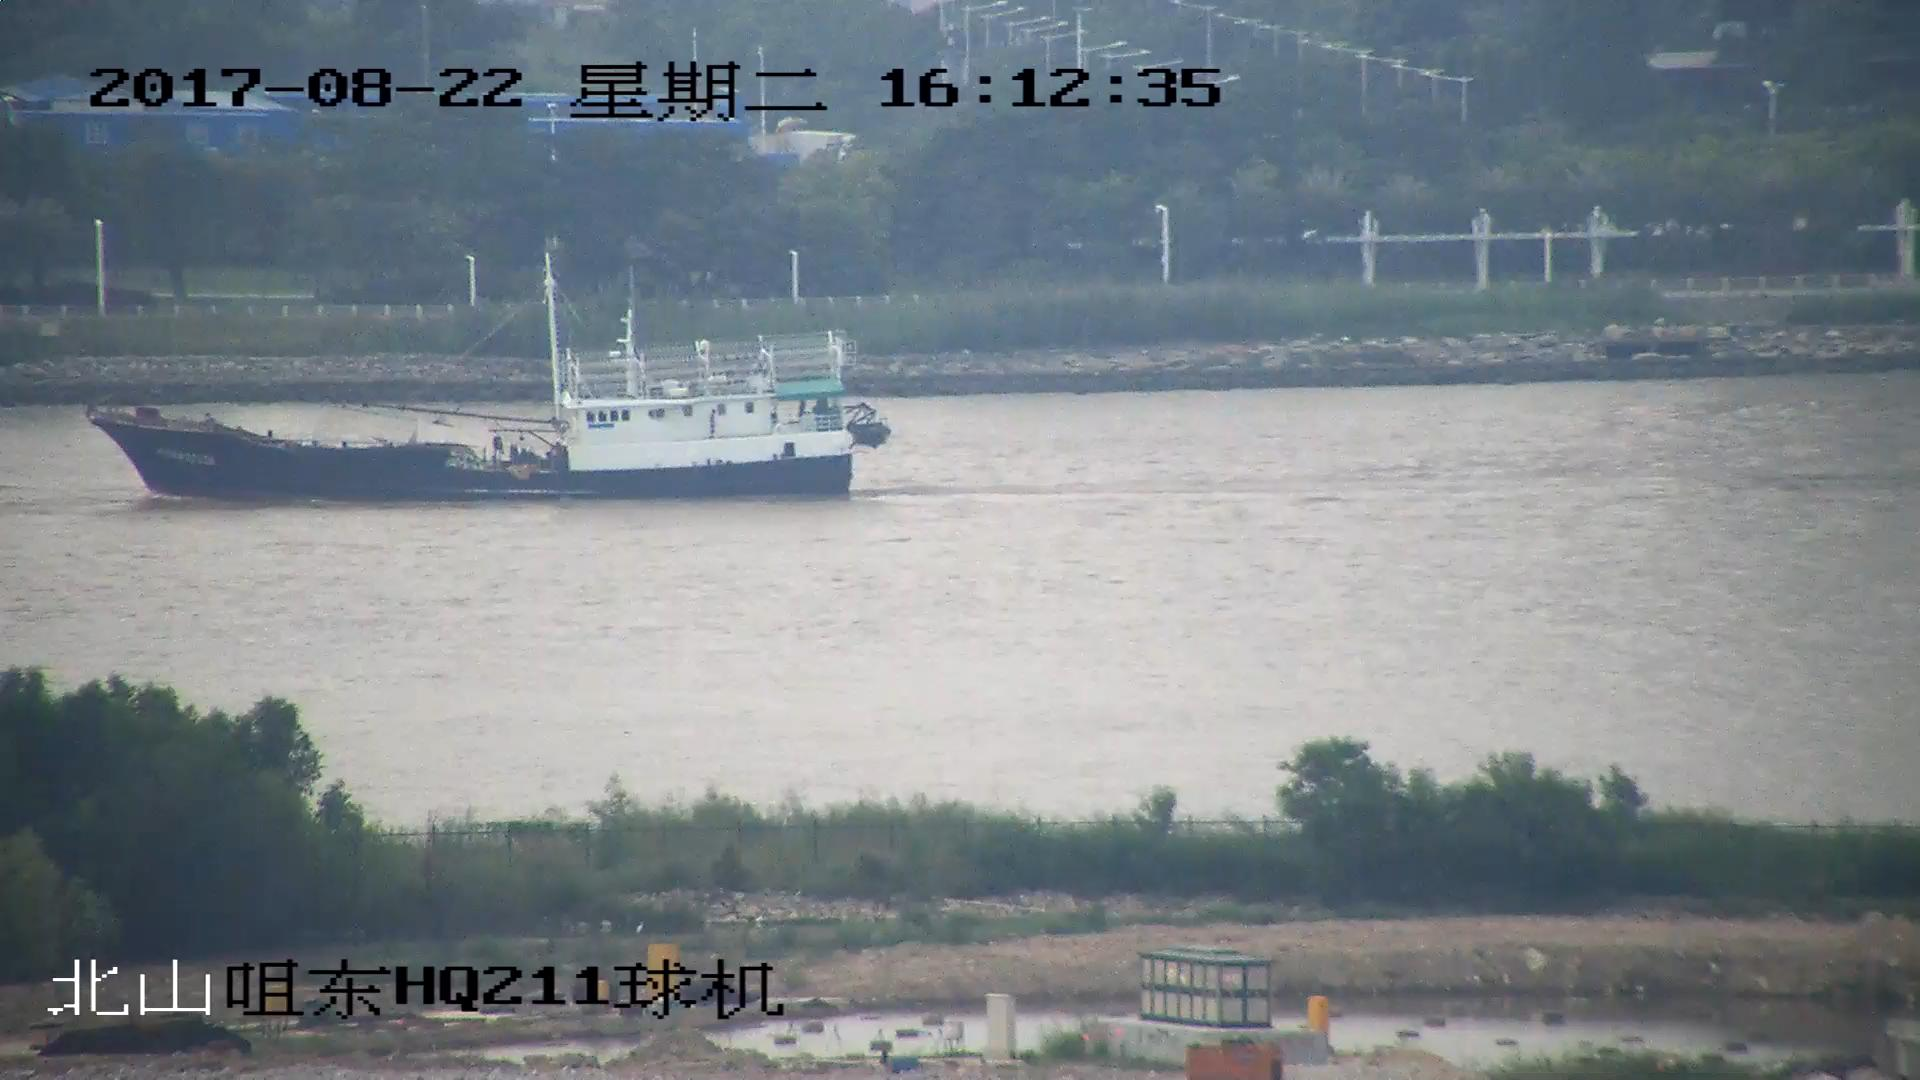fishing boat: (87, 260, 887, 503)
